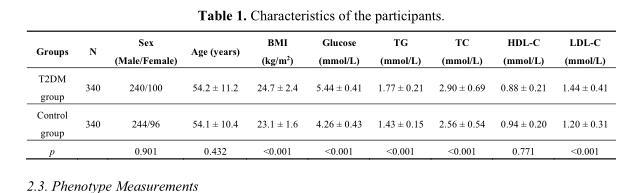table: (35, 34, 607, 156)
table column: (106, 34, 183, 156), (183, 34, 247, 156), (306, 34, 369, 156), (430, 34, 492, 156), (369, 34, 430, 156), (492, 34, 553, 156), (247, 34, 306, 156), (553, 34, 607, 156), (35, 34, 76, 156), (76, 34, 106, 156)
table column header: (35, 34, 607, 68)
table row: (35, 68, 607, 104), (35, 104, 607, 140), (35, 34, 607, 68), (35, 140, 607, 156)
